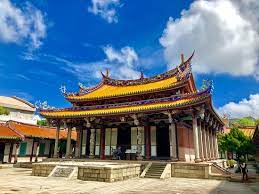Temple: (40, 65, 227, 165)
